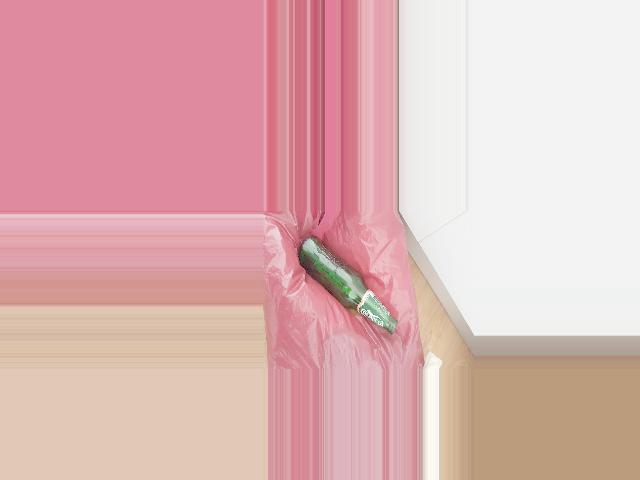beer: (297, 237, 397, 335)
